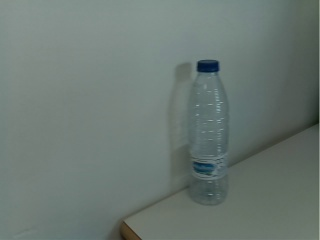botella plastico: (183, 58, 234, 208)
